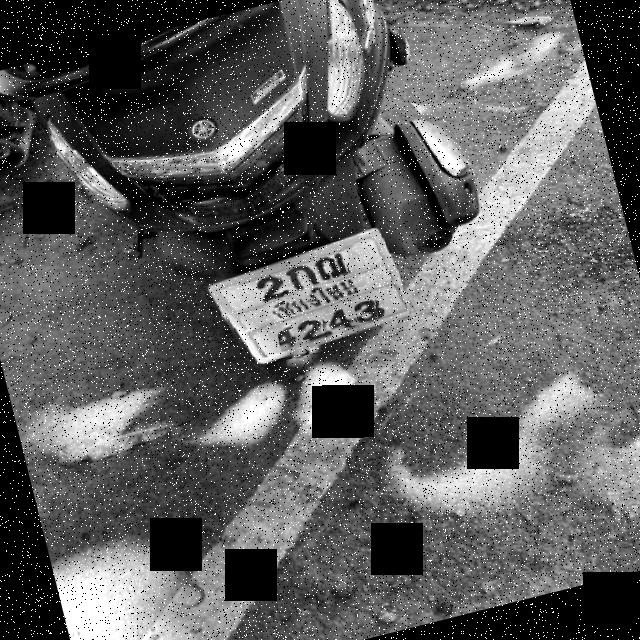letters: (310, 248, 350, 282), (254, 272, 284, 302), (284, 262, 316, 290), (324, 303, 356, 331), (296, 314, 326, 341), (352, 296, 380, 323), (276, 326, 304, 352)
license-plate: (216, 229, 410, 366)
province: (254, 274, 368, 320)
